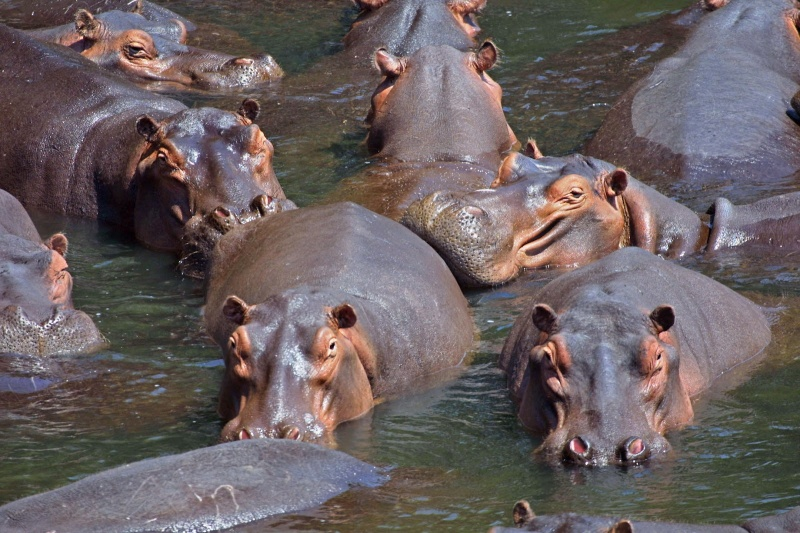hipopotamo: (3, 23, 297, 280), (198, 198, 479, 463), (501, 242, 783, 494), (399, 140, 800, 277), (3, 5, 295, 108), (358, 39, 518, 201), (0, 190, 123, 374)
